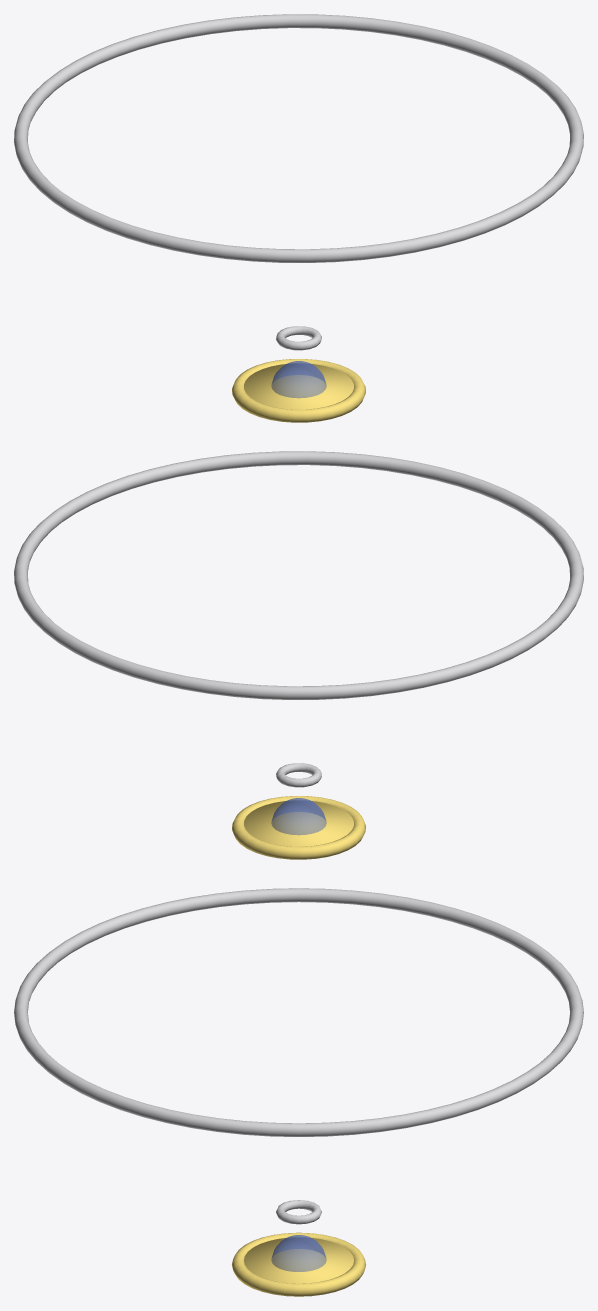
Rendered from necklace.glb.
3 views of the same model, one above another, from view 1: azimuth 30°, elevation 25°; view 2: azimuth 150°, elevation 25°; view 3: azimuth 270°, elevation 25° (orthographic).
Visible parts, largest first — view 1: necklace; view 2: necklace; view 3: necklace.
Part boxes in pixels (box(x1,y1,x2,y2)): necklace: box(14, 14, 583, 422); necklace: box(14, 451, 583, 859); necklace: box(14, 888, 583, 1296).
Size of the model in its own units: 0.246 by 0.134 by 0.246.
